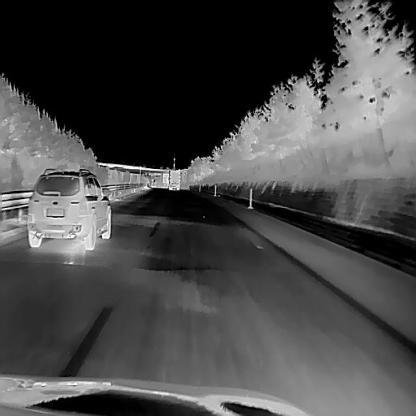car: (26, 168, 110, 250), (168, 169, 180, 190)
